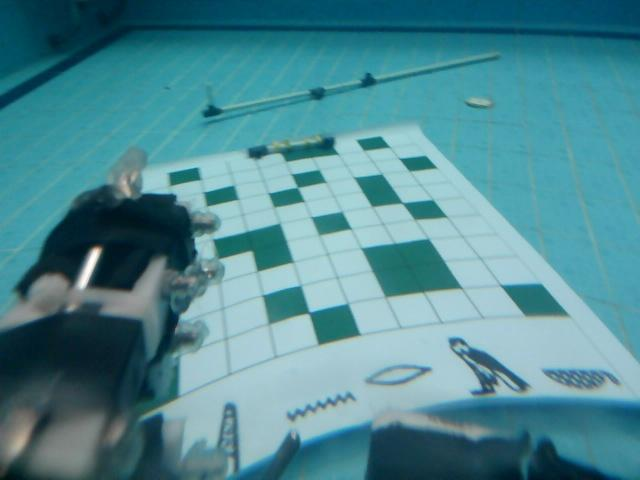Basket: (544, 364, 626, 393)
Mouth: (359, 356, 434, 392)
Owl: (445, 331, 531, 401)
Reed: (216, 396, 247, 471)
Water: (282, 393, 356, 424)
